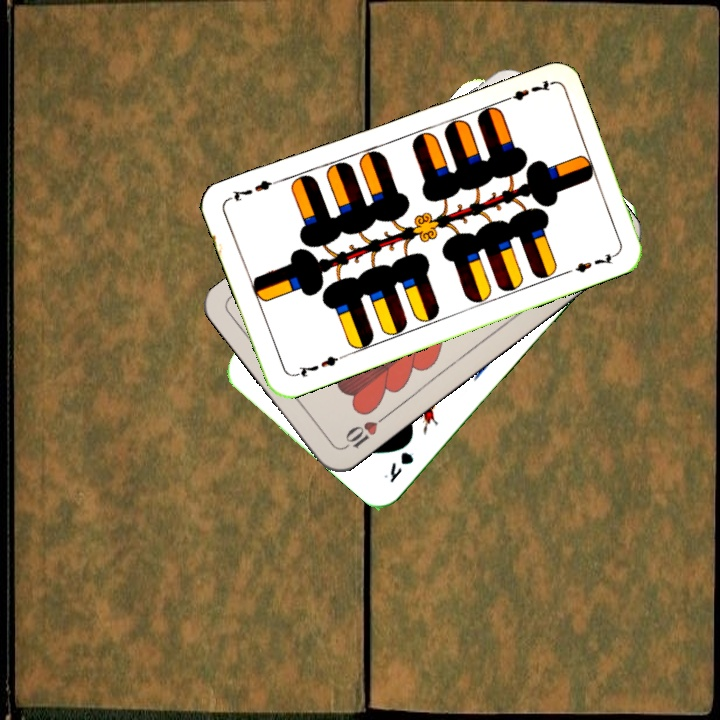E7: (496, 76, 553, 106), (289, 351, 346, 380)
GK: (379, 447, 417, 485)
H10: (339, 411, 390, 452)
